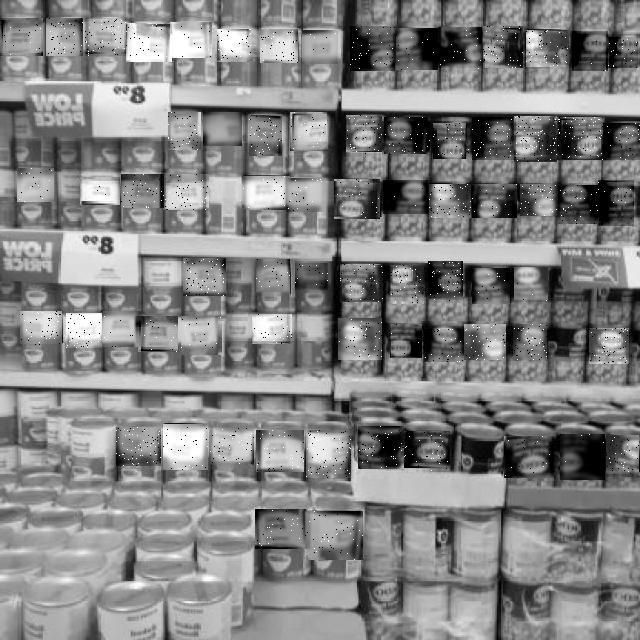Beans: (308, 511, 363, 560), (256, 509, 310, 549), (306, 430, 351, 478), (504, 437, 554, 479), (163, 424, 208, 470), (560, 434, 605, 480), (557, 117, 605, 160), (350, 26, 395, 71), (256, 431, 304, 473), (514, 116, 557, 162), (359, 426, 405, 469), (472, 117, 516, 160), (338, 318, 382, 360), (438, 28, 482, 70), (335, 179, 381, 219), (405, 432, 451, 472), (116, 428, 161, 468), (126, 23, 172, 62), (397, 28, 439, 70), (209, 428, 254, 466), (385, 117, 431, 154), (483, 26, 523, 68), (163, 175, 209, 211), (598, 180, 634, 226), (183, 258, 226, 296), (340, 264, 383, 302), (0, 18, 43, 56), (242, 176, 290, 210), (526, 30, 569, 67), (559, 185, 599, 224), (182, 316, 222, 355), (85, 18, 126, 56), (383, 180, 428, 214), (472, 185, 517, 219), (465, 325, 507, 361), (170, 22, 212, 58), (290, 112, 327, 151), (572, 31, 608, 71), (346, 116, 382, 156), (102, 311, 142, 347), (139, 316, 179, 352), (589, 328, 629, 364), (122, 174, 164, 208), (429, 184, 471, 218), (20, 312, 62, 346), (46, 18, 83, 56), (428, 262, 463, 302), (603, 123, 640, 160), (473, 268, 511, 304), (286, 179, 326, 213), (203, 112, 242, 146), (391, 265, 425, 304), (249, 116, 282, 156), (425, 329, 465, 362), (606, 436, 639, 476), (434, 123, 470, 159), (66, 314, 102, 350), (260, 29, 298, 63), (520, 184, 560, 216), (17, 169, 54, 203), (168, 112, 201, 150), (256, 260, 290, 296), (513, 325, 547, 361), (302, 31, 338, 65), (253, 314, 293, 344), (515, 268, 549, 302), (217, 29, 251, 62), (80, 177, 120, 205), (390, 324, 422, 358), (296, 264, 330, 292), (608, 37, 638, 68)
